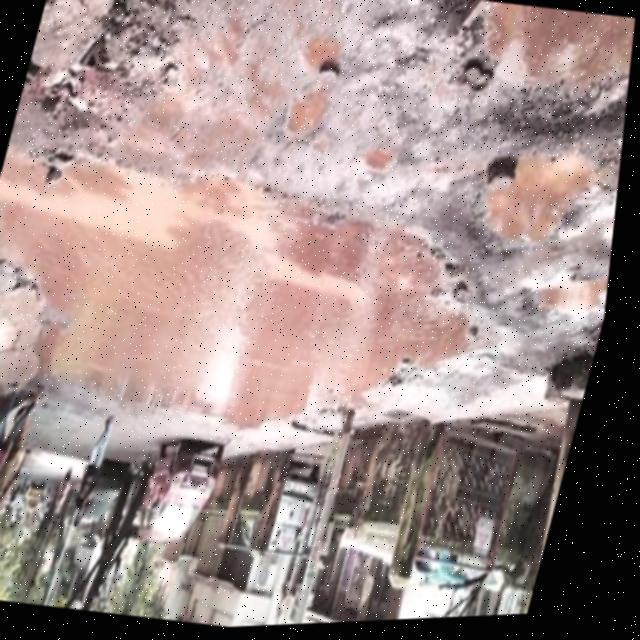Pothole: (37, 172, 469, 455), (412, 0, 639, 149), (22, 0, 186, 115), (468, 151, 603, 277)
